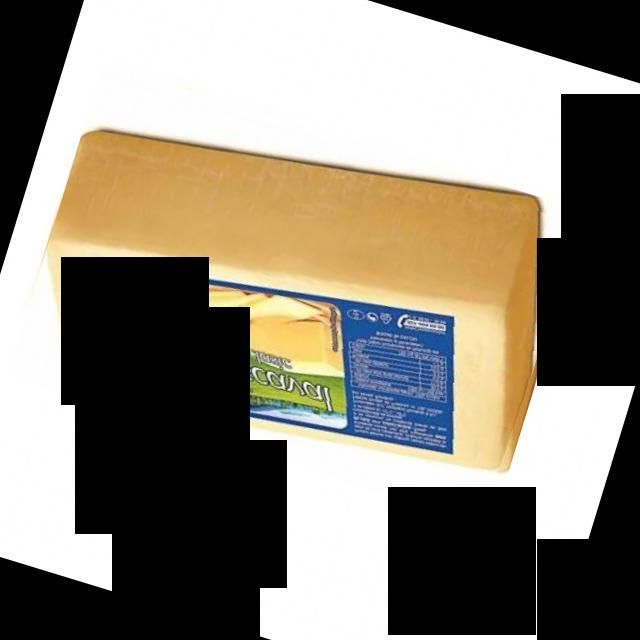cheese: (8, 63, 587, 521)
